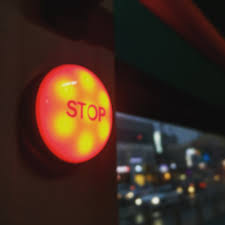bell: (28, 59, 116, 172)
